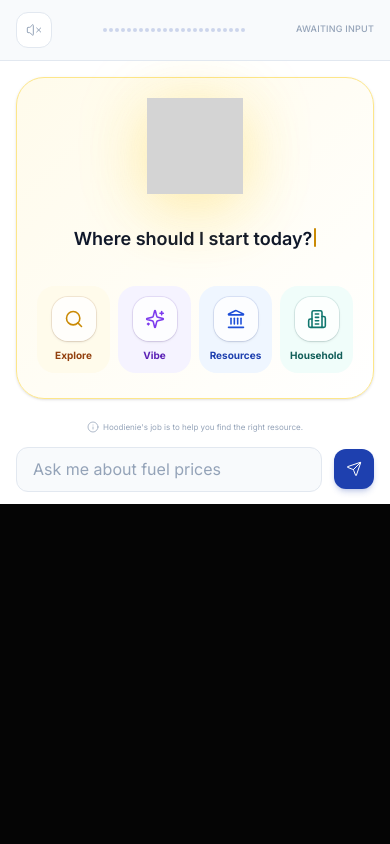
TriageCenter expense and timeline assistant cards › switches the carousel copy to the active section and restores the default copy after close
This screenshot has width=390, height=844.
What coordinates should you click on to do the following:
click the button "Vibe"
I would click on:
 (154, 330)
Its box is [118,286,191,373].
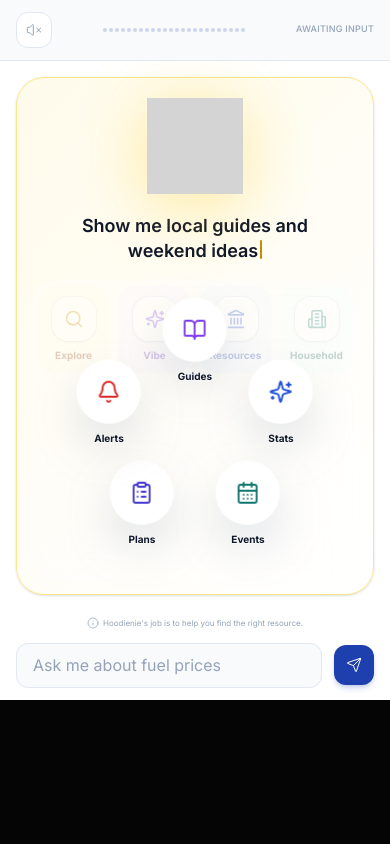
Result: the text "Show me local guides and weekend ideas" is shown at [82,216,308,262]
What coordinates should you click on to do the following:
click the button named "Close Vibe menu"
I would click on:
 (195, 430)
Its box is [31,280,359,580].
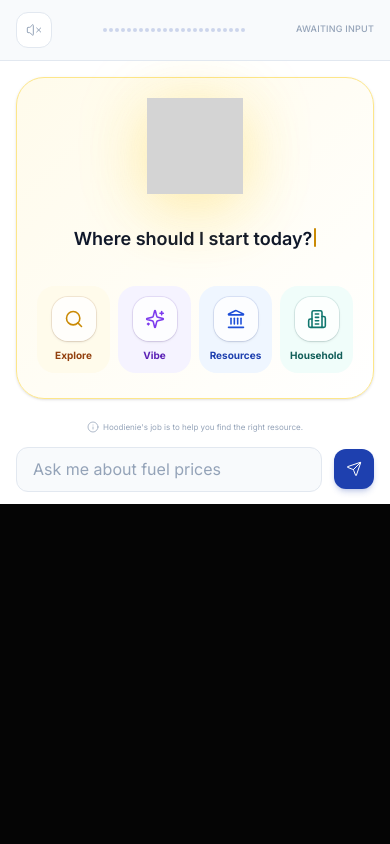
Result: the text "Where should I start today?" is shown at [74,228,316,252]
